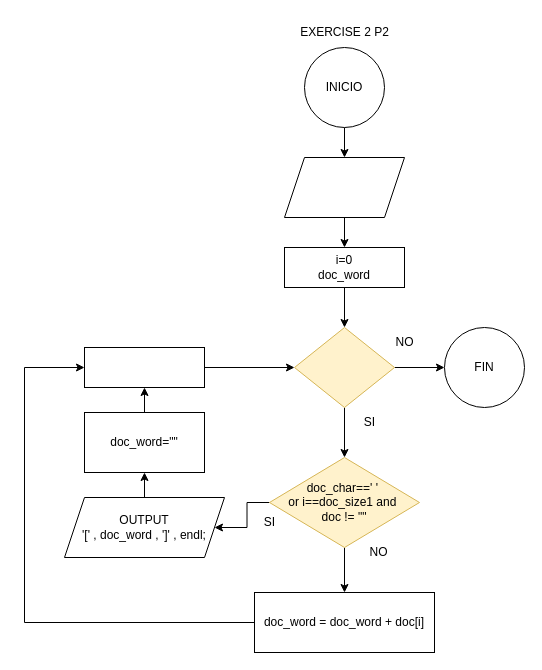
The diagram is 542 pixels wide and 670 high, and some of its shapes have lost their labels. Here are the shapes that lost their labels. From the top down, the centre of each, then its label:
At point 344,187: "INPUT doc".
At point 144,367: "++i".
At point 344,367: "i<=doc.size()".
